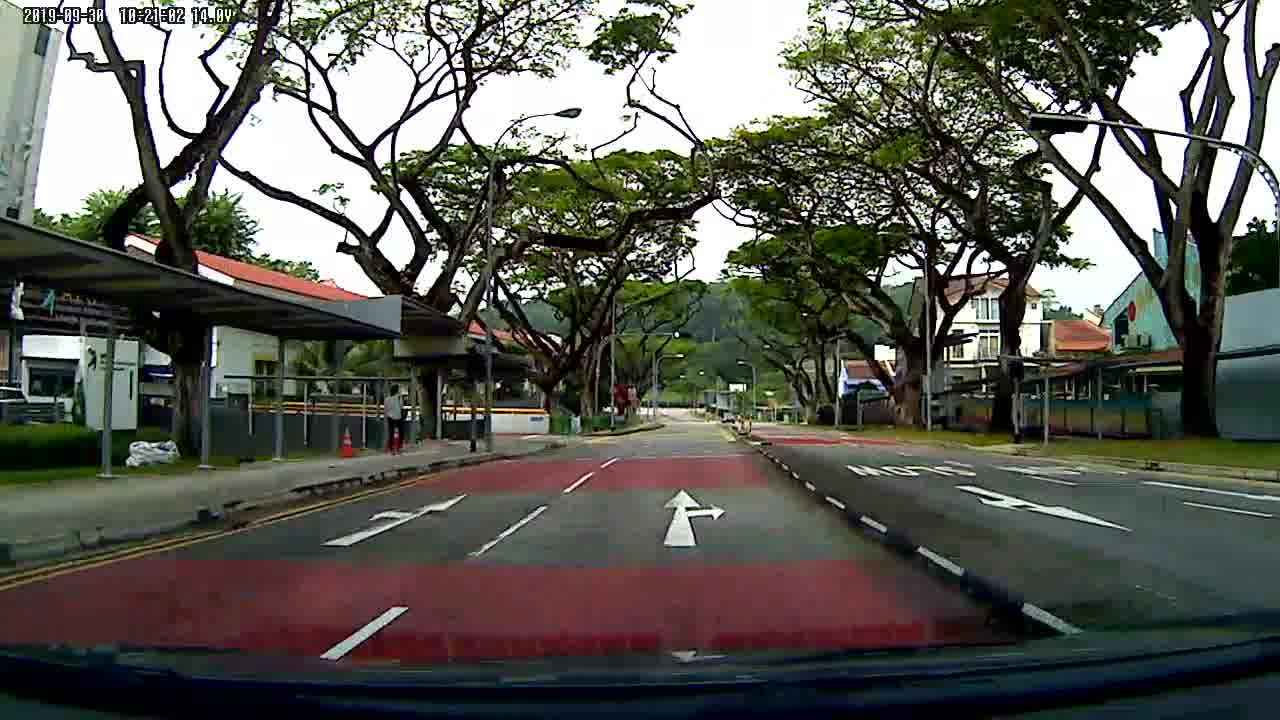car: (721, 409, 740, 425)
